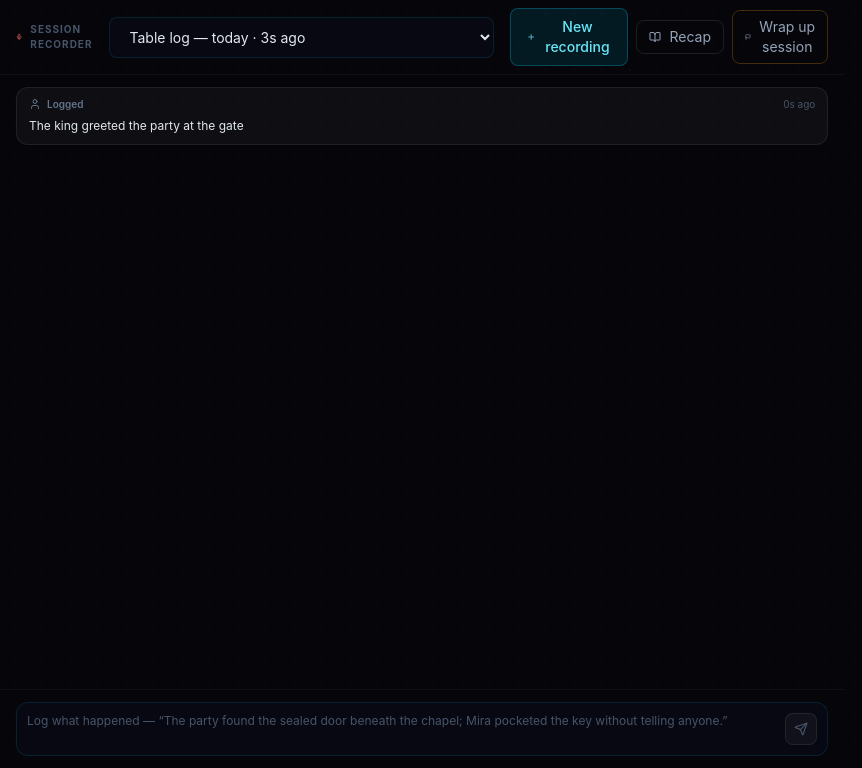
SessionRecorder per-entry capture insights (P1.2) › renders insights alongside a contradiction alert for the same entry
Type "The king greeted the party at the gate" into the text box with placeholder "Log what happened".
click(402, 729); type("The king greeted the party at the gate")  # box [27, 713, 777, 745]
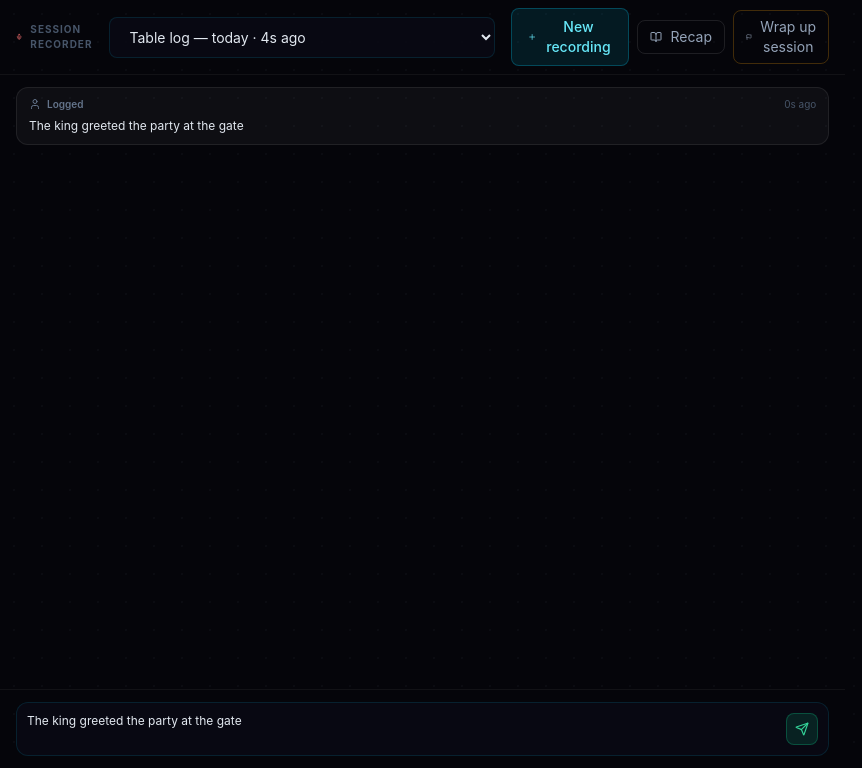
Click the button named "Log entry".
click(802, 729)  # box [786, 713, 818, 745]
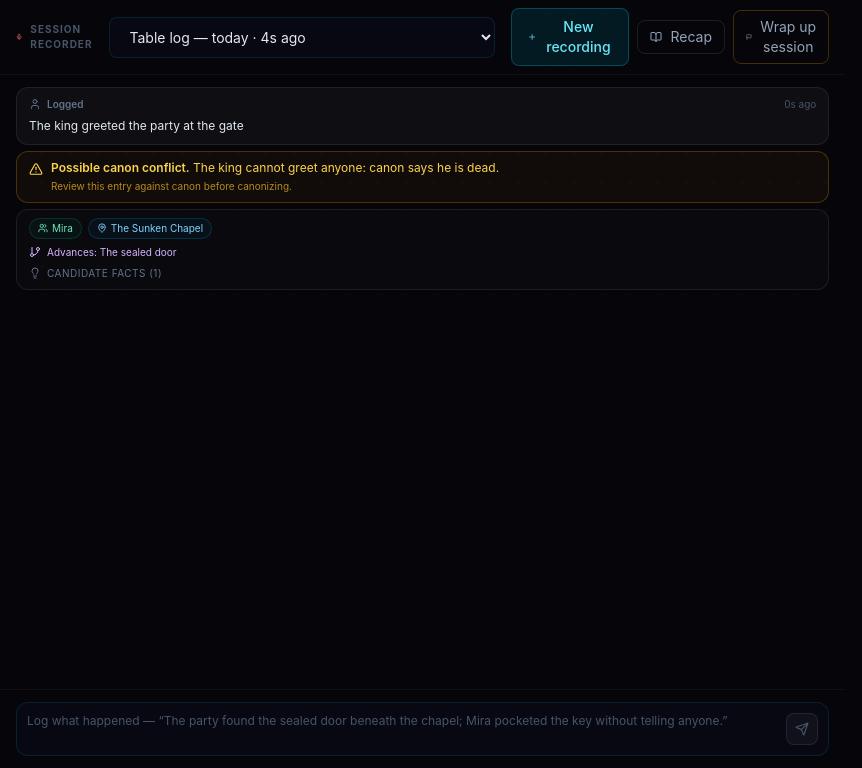
Now the element with test id "contradiction-alert" is shown, box [16, 151, 829, 203]
Now the element with test id "capture-insights" is shown, box [16, 209, 829, 290]
